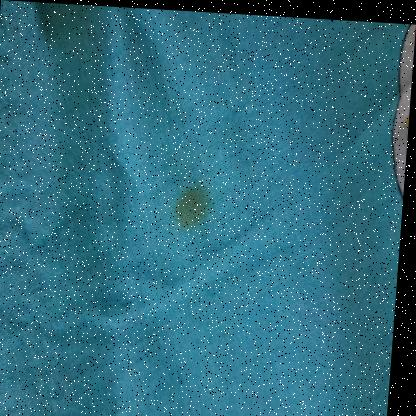spot: (164, 165, 233, 240)
